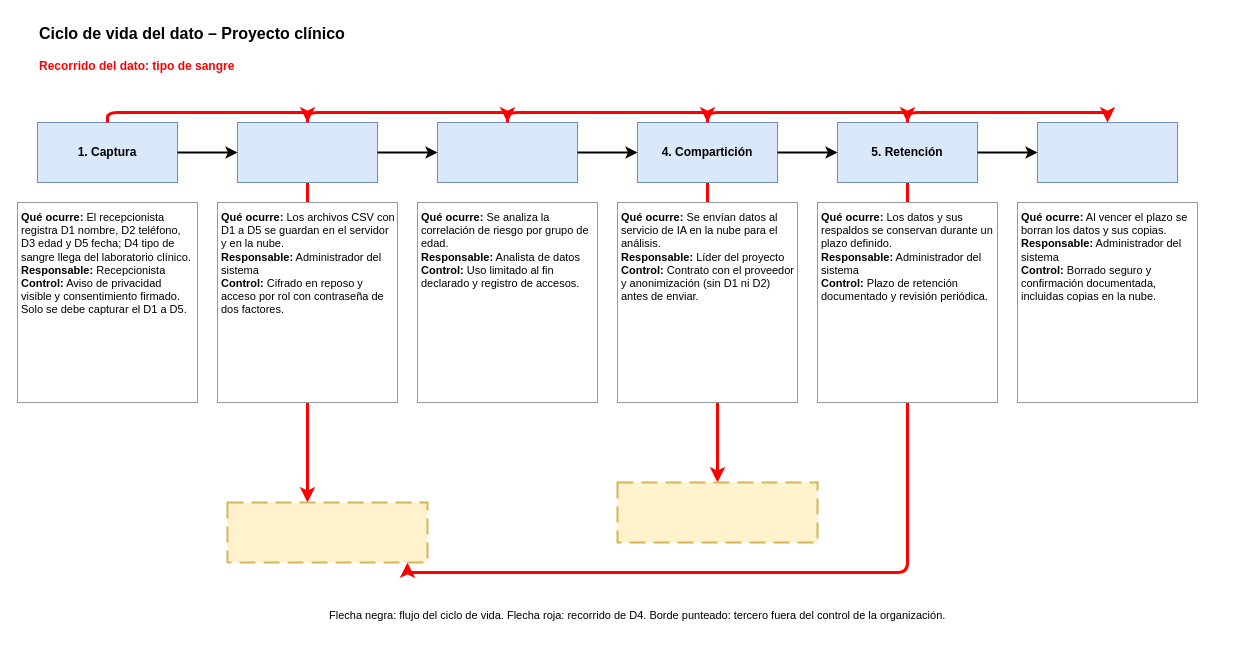
Some shapes in this 1255 by 649 pixel diagram are drawn without their labels. The shapes that lost their labels are listed below. From the top down, each one's centre as x and y in pixels, then its label:
the point at 307,152: 2. Almacenamiento
the point at 507,152: 3. Uso
the point at 1107,152: 6. Eliminación
the point at 327,532: Tercero: Proveedor de nube (almacenamiento y respaldos)
the point at 717,512: Tercero: Servicio de IA generativa en la nube
